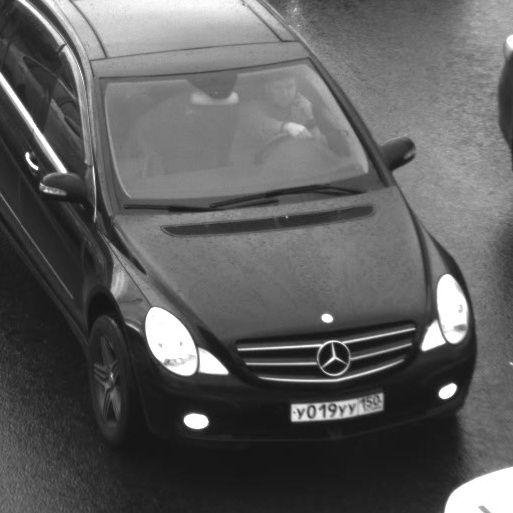plate: (278, 381, 390, 430)
